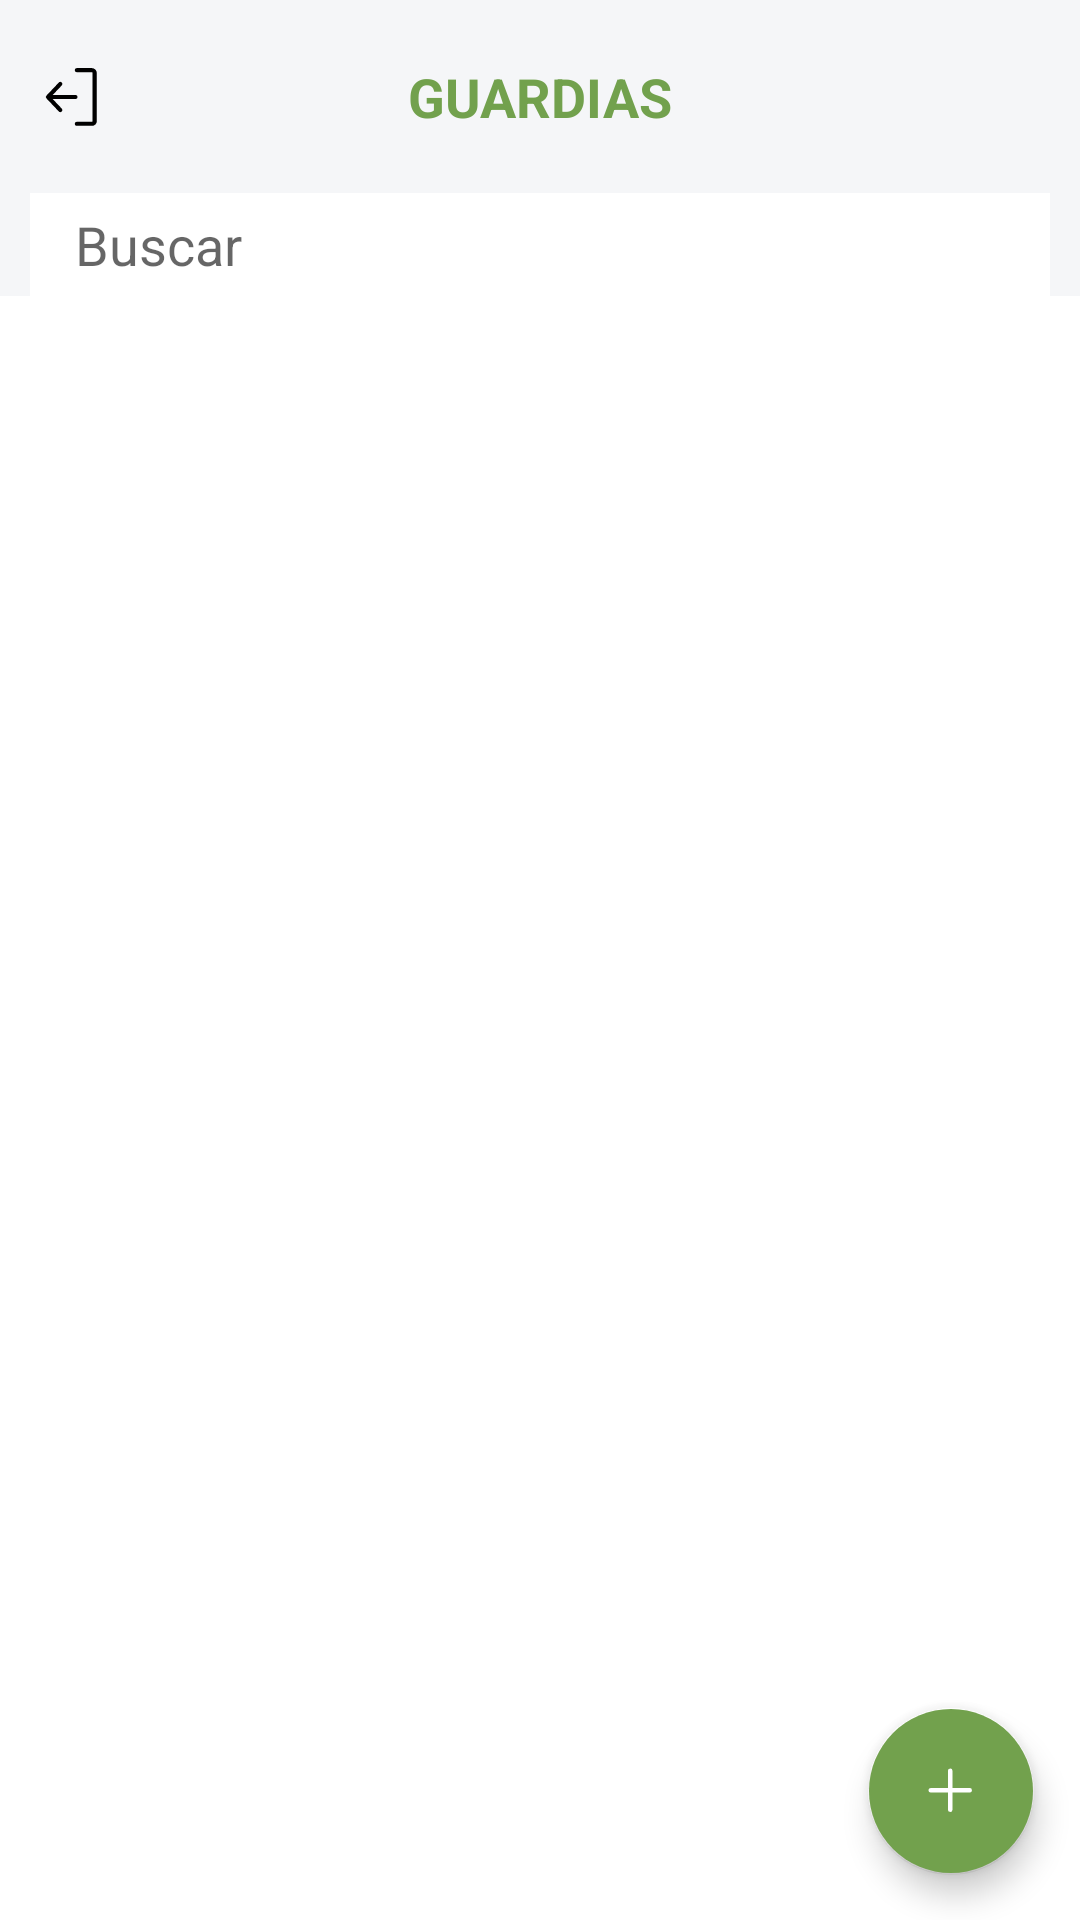

Icon click points for this 1080 × 1920 phone screenshot, format (x,y):
add: (952,1792)
